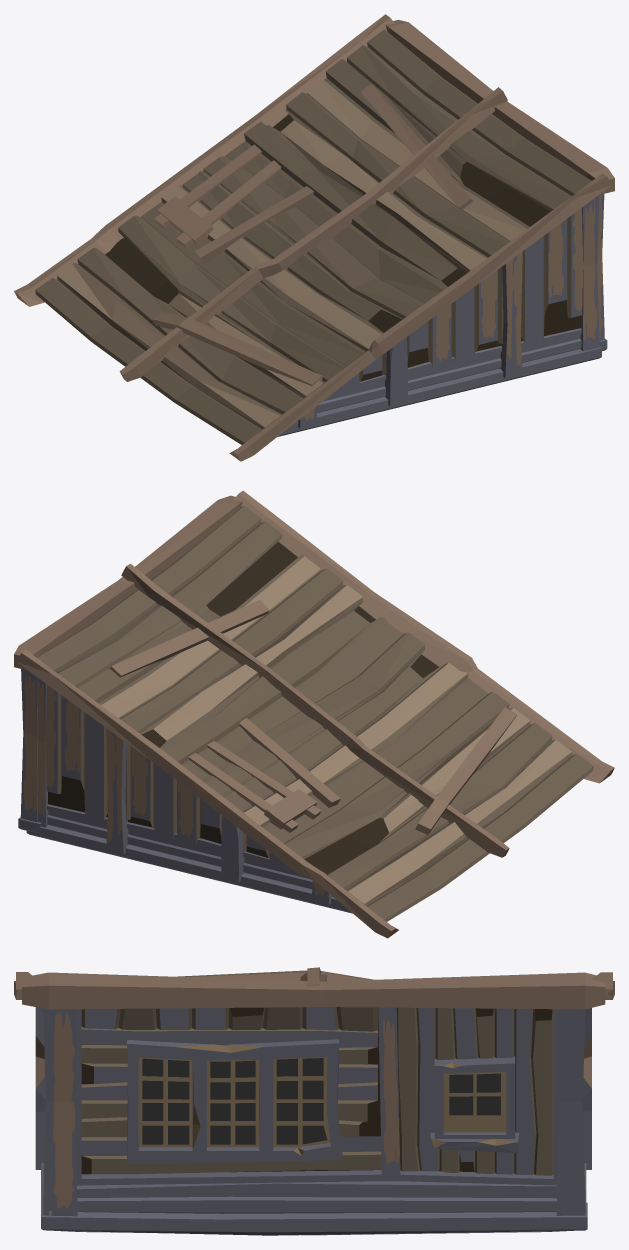
The model's file is SM_Bld_Shanty_Roof_02.glb.
3 renders of one model, top to bottom at view 1: azimuth 30°, elevation 25°; view 2: azimuth 150°, elevation 25°; view 3: azimuth 270°, elevation 25°, orthographic. The views are drawn at different scales.
Parts seen in each view (by area): view 1: SM_Bld_Shanty_Roof_02_part00; view 2: SM_Bld_Shanty_Roof_02_part00; view 3: SM_Bld_Shanty_Roof_02_part00.
Boxes of the visible parts, x1,y1,x2,y2 form: SM_Bld_Shanty_Roof_02_part00: (14,14,614,461); SM_Bld_Shanty_Roof_02_part00: (14,490,614,938); SM_Bld_Shanty_Roof_02_part00: (14,967,614,1235).
Bounding box in the file's own units: 5.67 × 2.77 × 5.58.
1 material, 1 textured.
